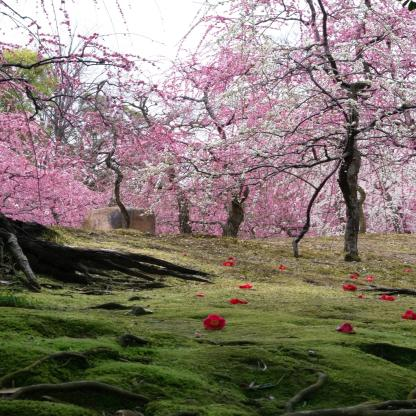Ume: (108, 0, 416, 233), (0, 0, 162, 230)
